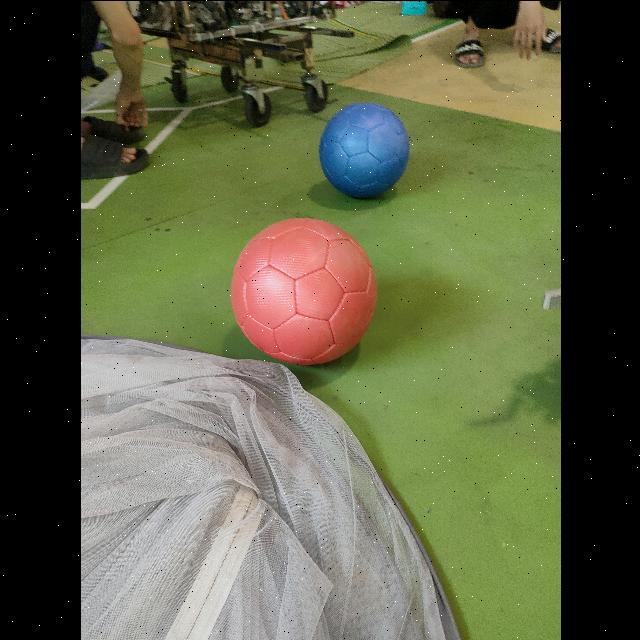B: (317, 103, 409, 201)
R: (229, 217, 377, 368)
